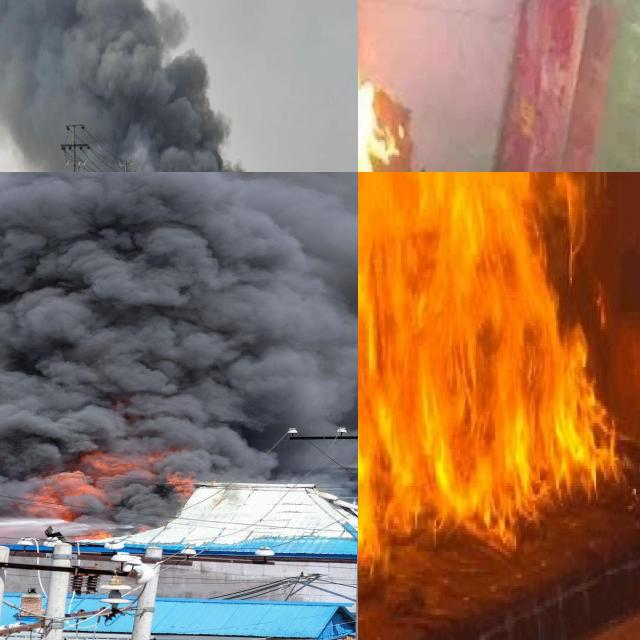fire: (358, 172, 627, 596), (22, 451, 190, 529), (358, 9, 402, 172)
smoke: (0, 172, 358, 514), (0, 0, 268, 172)
